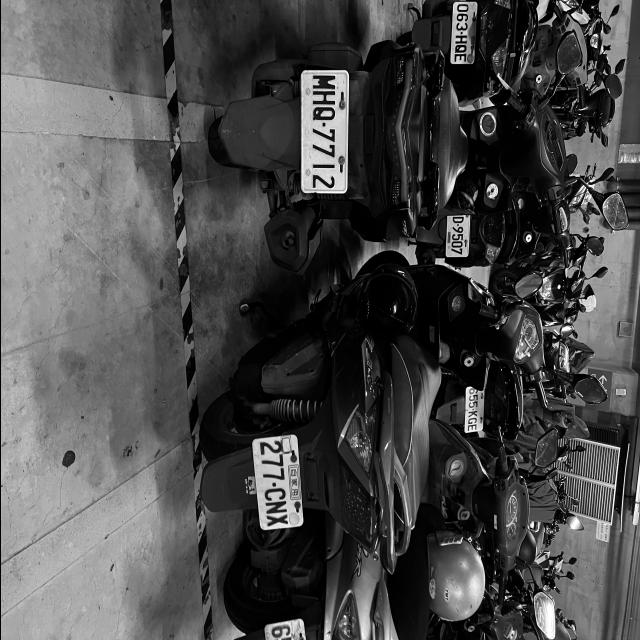-: (270, 482, 276, 488), (321, 121, 325, 128), (459, 31, 463, 35), (456, 224, 458, 227), (472, 408, 474, 410)
0: (456, 4, 468, 12), (450, 242, 462, 248)
1: (310, 163, 336, 170)
2: (257, 439, 284, 458), (310, 175, 336, 188)
3: (456, 23, 468, 31)
5: (450, 234, 462, 241), (468, 394, 478, 402), (468, 402, 478, 408)
6: (311, 144, 336, 158), (269, 624, 291, 638), (455, 13, 467, 22), (468, 388, 478, 394)
7: (260, 454, 284, 470), (311, 128, 336, 142), (261, 468, 285, 482), (450, 248, 462, 255)
9: (452, 226, 462, 232)
C: (263, 487, 287, 502)
D: (451, 216, 463, 224)
E: (453, 54, 466, 62), (466, 424, 477, 432)
G: (468, 418, 476, 424)
H: (312, 90, 335, 106), (453, 35, 468, 44)
K: (468, 411, 477, 418)
M: (312, 74, 336, 89)
N: (264, 500, 287, 516)
Q: (311, 105, 334, 122), (454, 44, 466, 54)
X: (264, 515, 289, 529)
plate: (302, 73, 348, 193), (257, 434, 296, 532), (449, 4, 476, 64), (464, 388, 483, 432)
